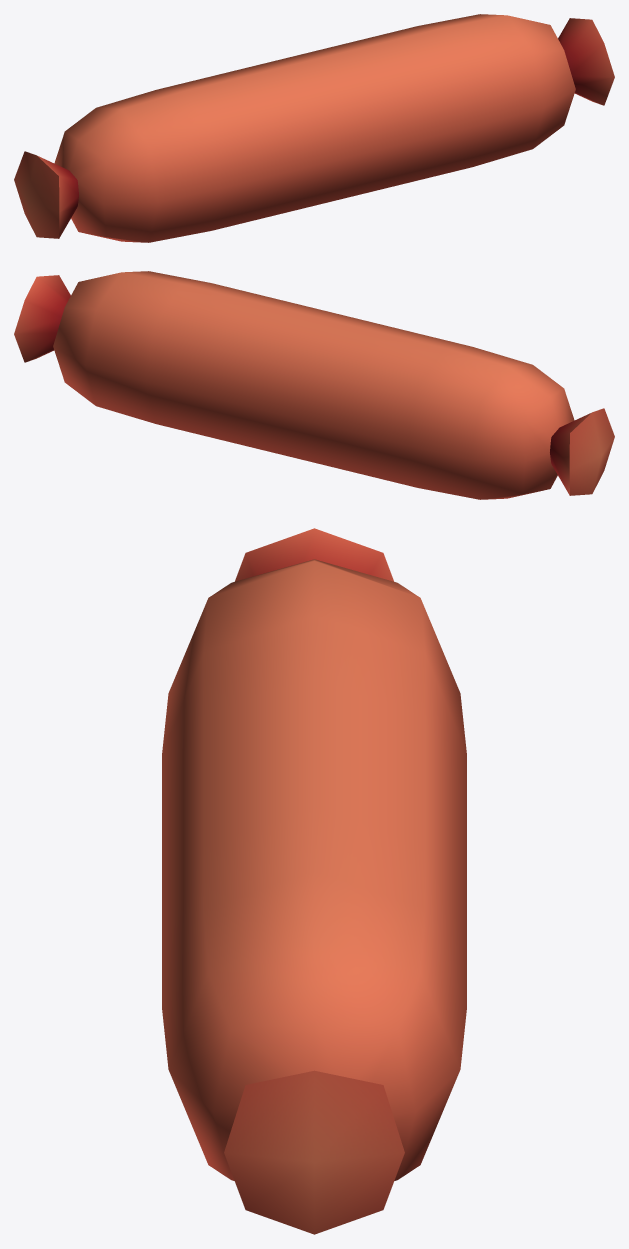
Rendered from Sausage_01.glb.
3 views of the same model, one above another, from view 1: azimuth 30°, elevation 25°; view 2: azimuth 150°, elevation 25°; view 3: azimuth 270°, elevation 25° (orthographic). The views are drawn at different scales.
Parts seen in each view (by area): view 1: Sausage_01; view 2: Sausage_01; view 3: Sausage_01.
Part boxes in pixels (box(x1,y1,x2,y2)): Sausage_01: box(14, 14, 614, 242); Sausage_01: box(14, 271, 614, 499); Sausage_01: box(162, 528, 466, 1234).
Size of the model in its own units: 0.8026 by 0.1842 by 0.1842.
1 material, 1 textured.
